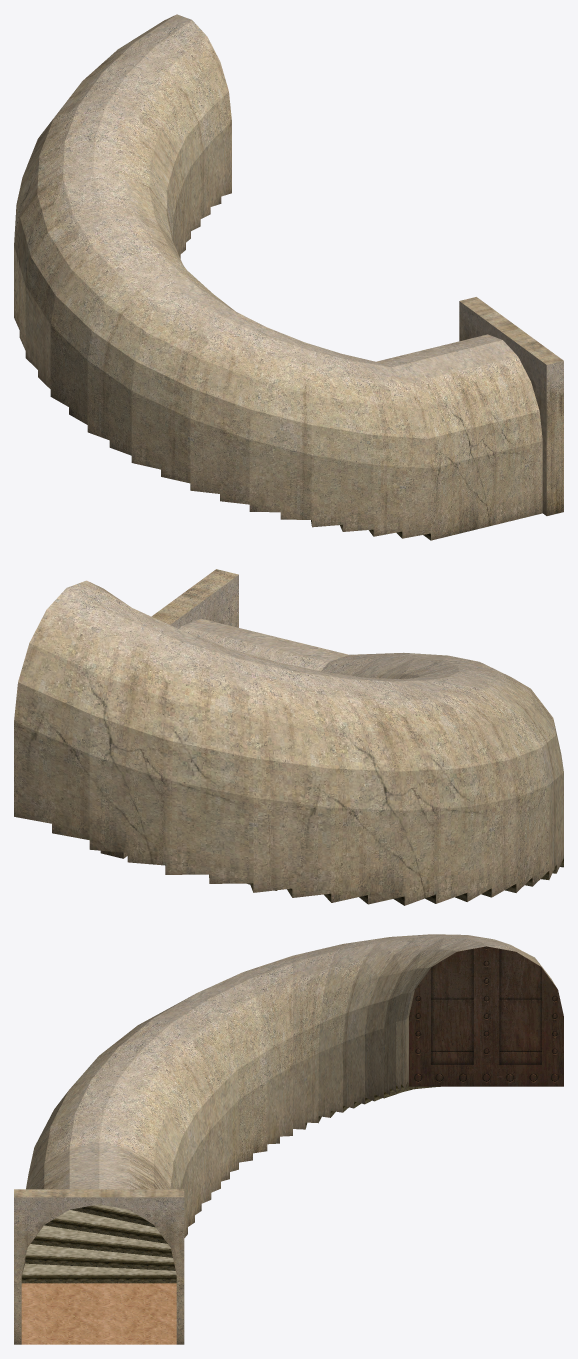
The model's file is thm_tato_jabbas_palace_r28_spawn1_mesh_r28.fbx.
The picture shows the model from 3 angles, top to bottom: view 1: azimuth 30°, elevation 25°; view 2: azimuth 150°, elevation 25°; view 3: azimuth 270°, elevation 25°; orthographic projection. The views are drawn at different scales.
Parts seen in each view (by area): view 1: mesh_node; view 2: mesh_node; view 3: mesh_node.
Boxes of the visible parts, x1,y1,x2,y2 form: mesh_node: (14,14,563,540); mesh_node: (14,569,563,905); mesh_node: (14,934,563,1344).
Bounding box in the file's own units: 10.75 × 9.6 × 14.2.
